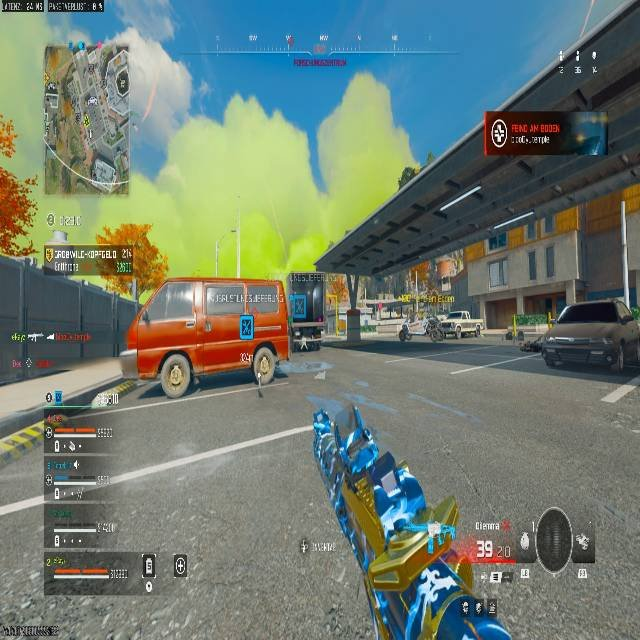player: (424, 315, 442, 340), (398, 321, 411, 342)
